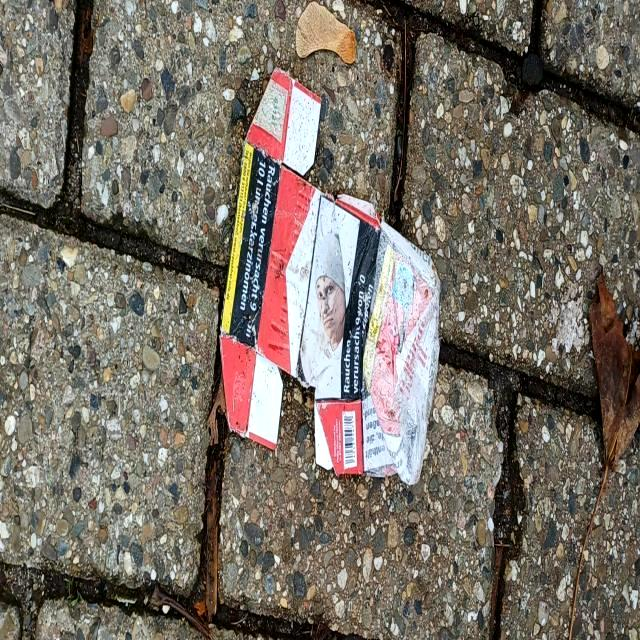Paper: (216, 64, 442, 488)
